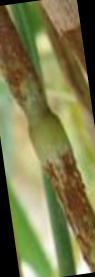Wheat: (47, 146, 95, 255), (0, 11, 40, 100)
